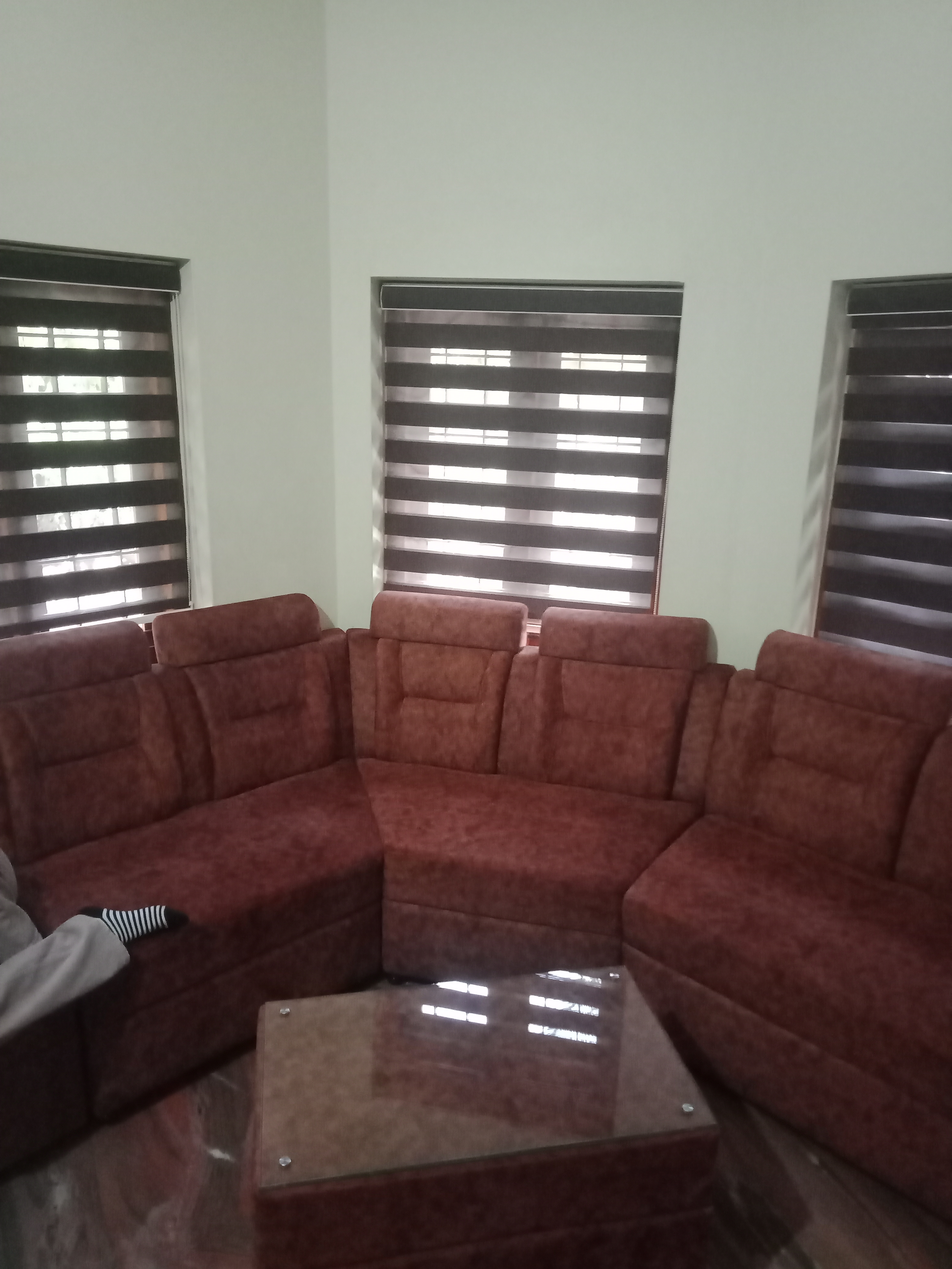sofa: (0, 587, 952, 1198)
table: (250, 964, 718, 1269)
